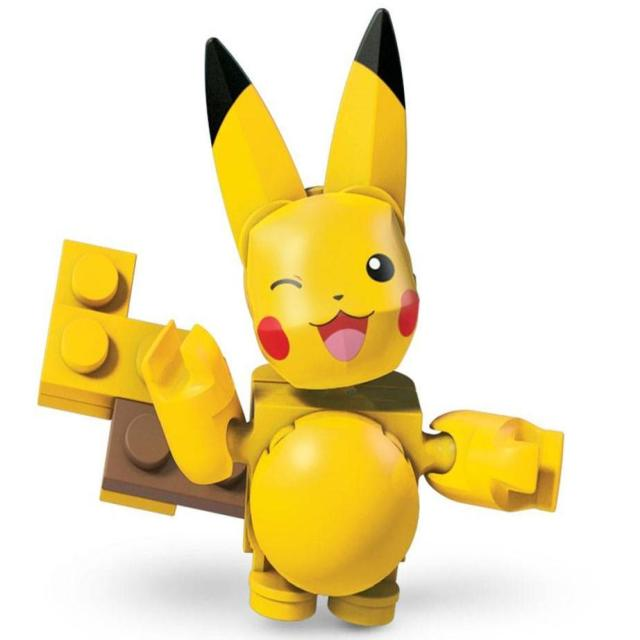pikachu: (39, 13, 564, 628)
